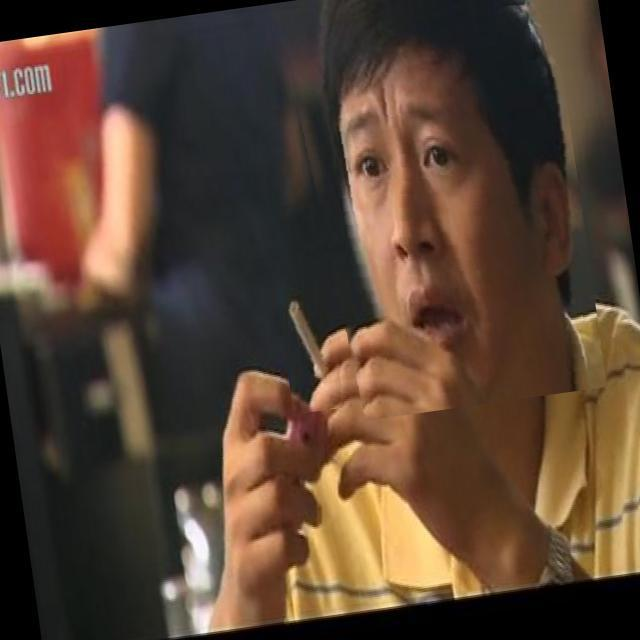cigarette: (274, 260, 352, 414)
